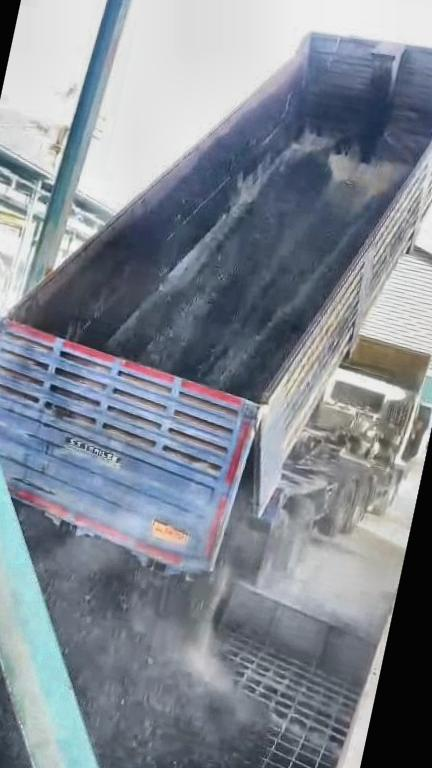gravel: (120, 154, 380, 400), (21, 509, 264, 768), (0, 471, 26, 768)
